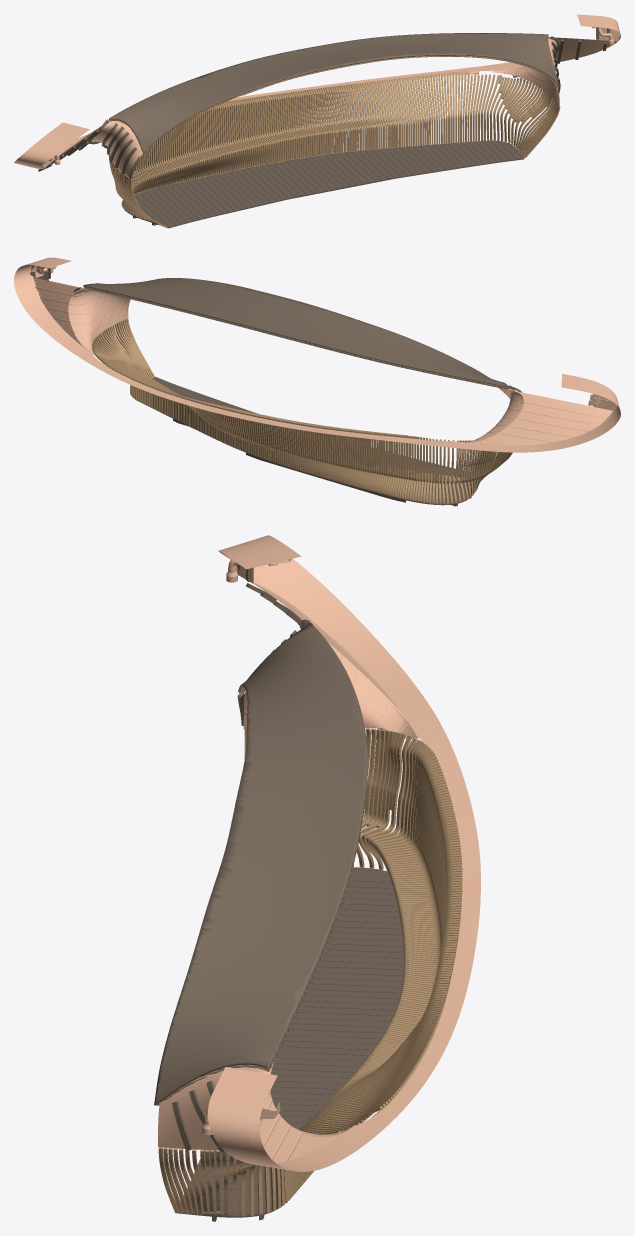
The model's file is balcony_A.glb.
3 views of the same model, one above another, from view 1: azimuth 30°, elevation 25°; view 2: azimuth 150°, elevation 25°; view 3: azimuth 270°, elevation 25° (orthographic). The views are drawn at different scales.
Parts seen in each view (by area): view 1: bench_A, soffit_boards, deck, copper_parts, copper_sides, ceiling_shingles; view 2: bench_A, soffit_boards, copper_sides, copper_parts, deck, ceiling_shingles, edge_fittings; view 3: soffit_boards, bench_A, copper_parts, deck, copper_sides.
Part boxes in pixels (x1,y1,x2,y2): bench_A: (108,71,560,227); soffit_boards: (38,27,609,178); deck: (124,140,524,228); copper_parts: (14,14,620,168); copper_sides: (37,27,620,178); ceiling_shingles: (109,55,557,152); bench_A: (92,318,512,504); soffit_boards: (48,268,522,443); copper_sides: (31,265,617,445); copper_parts: (14,257,620,452); deck: (133,377,475,506); ceiling_shingles: (83,286,509,395); edge_fittings: (86,287,505,389); soffit_boards: (154,565,385,1163); bench_A: (158,728,462,1216); copper_parts: (202,535,480,1171); deck: (175,867,403,1221); copper_sides: (158,564,418,1164).
Size of the model in its own units: 14.75 by 2.99 by 3.49.
